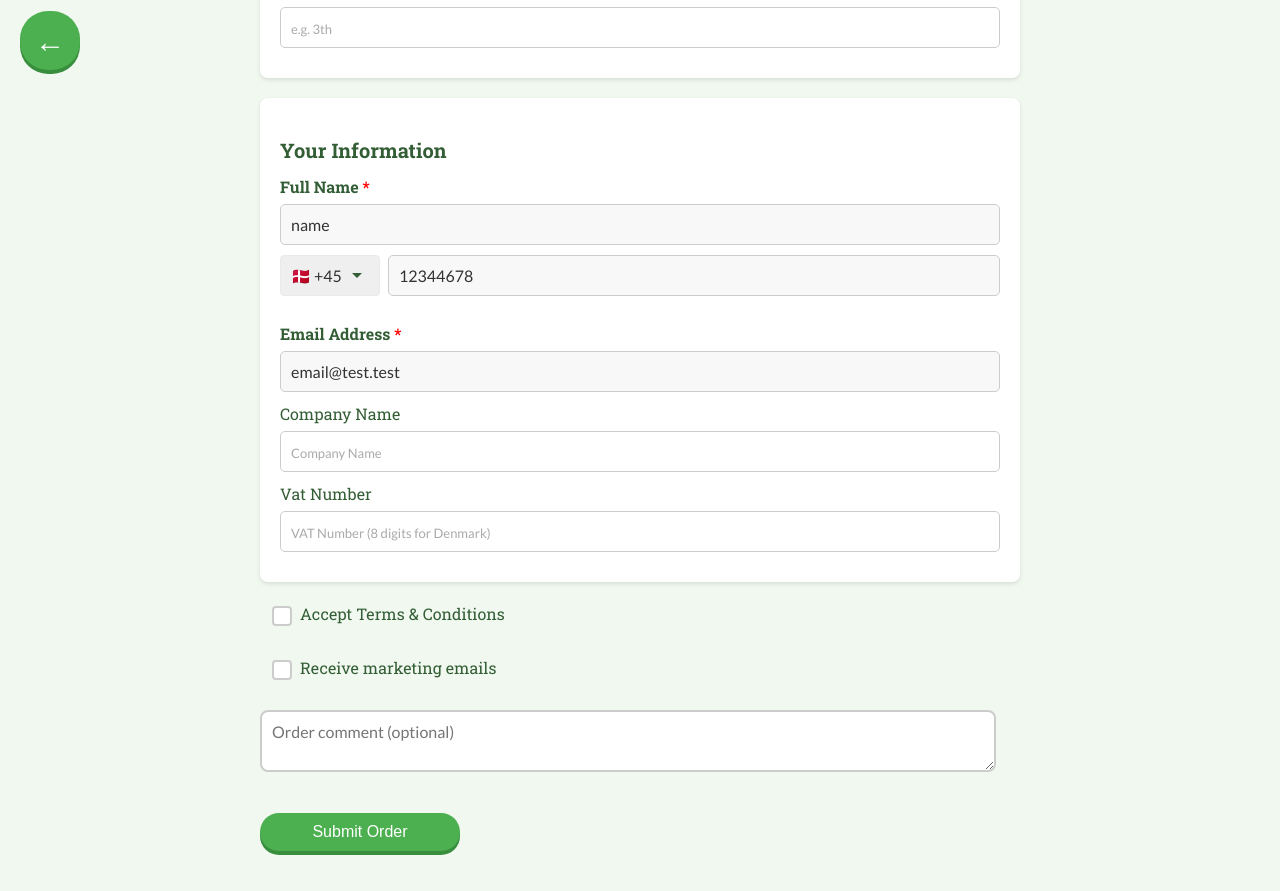
Scenario: Checkout component › validates form fields correctly (Postal code)
This screenshot has width=1280, height=891.
(page scrolled)
Click the button "Submit Order" at (360, 832), box top-left (260, 813), bottom-right (460, 851)
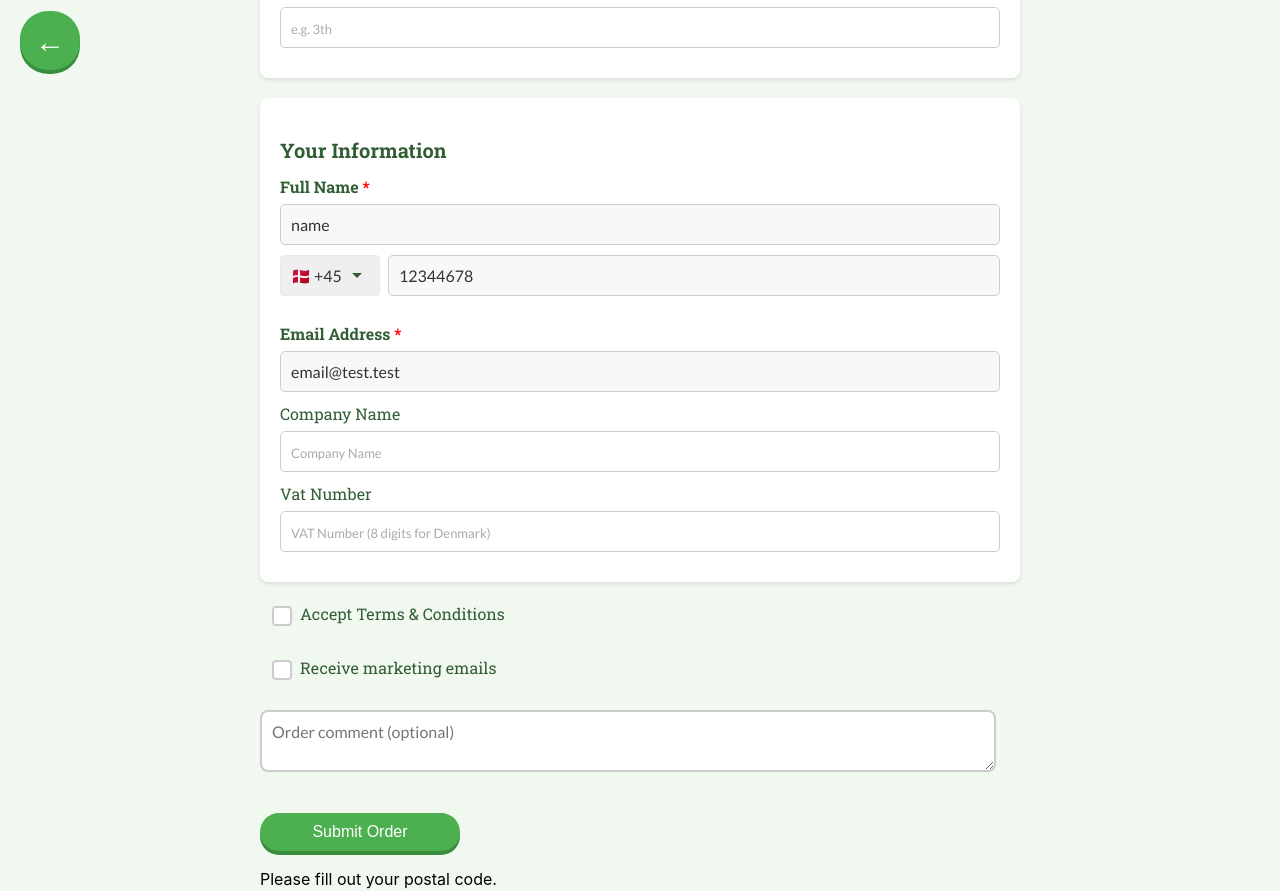
Expected: the text "Please fill out your postal code." is shown, top-left (260, 869), bottom-right (497, 889)
